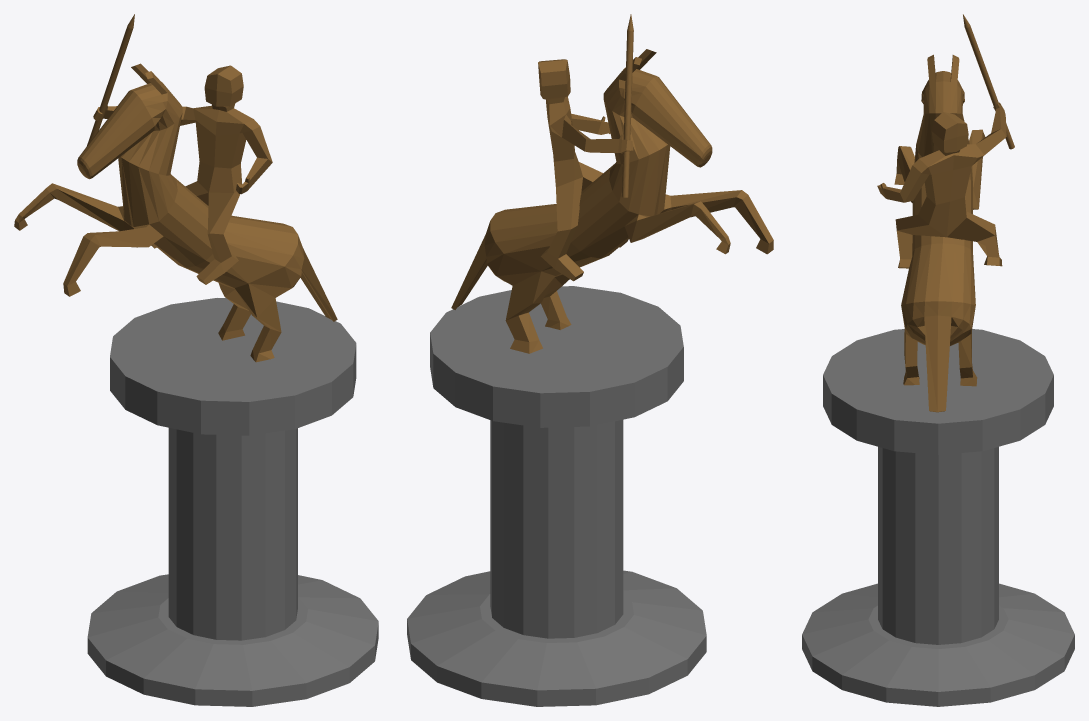
Rendered from HorseStatue.fbx.
3 views of the same model, side by side, from view 1: azimuth 30°, elevation 25°; view 2: azimuth 150°, elevation 25°; view 3: azimuth 270°, elevation 25° (orthographic). The views are drawn at different scales.
Parts seen in each view (by area): view 1: Cube; view 2: Cube; view 3: Cube.
Part boxes in pixels (x1,y1,x2,y2): Cube: (14,14,378,706); Cube: (407,14,773,706); Cube: (802,14,1074,706).
Bounding box in the file's own units: 5.66 × 10.87 × 4.5.
